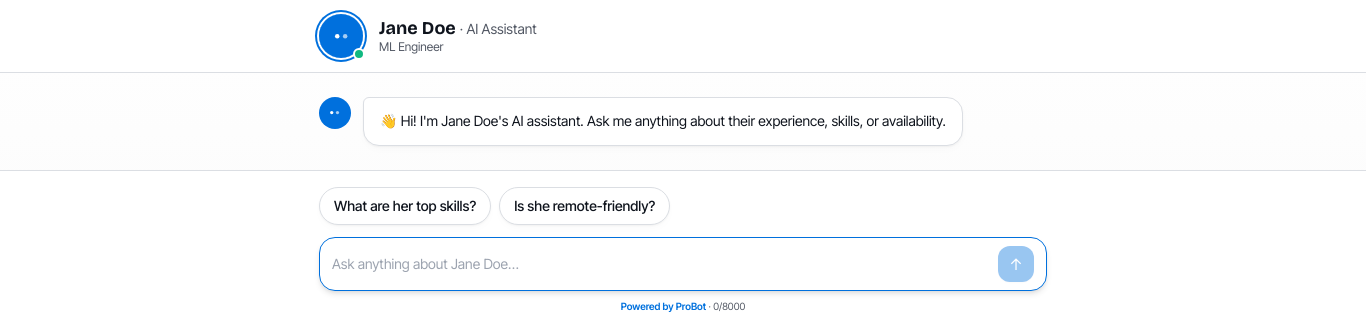
Test: ChatWindow › with no browser key, still fetches (no x-llm-api-key header) so the server can use the managed key; shows a generic error on a published bot if none is stored
Type "go" into the text box.
click(661, 264); type("go")  # box [332,246,990,282]
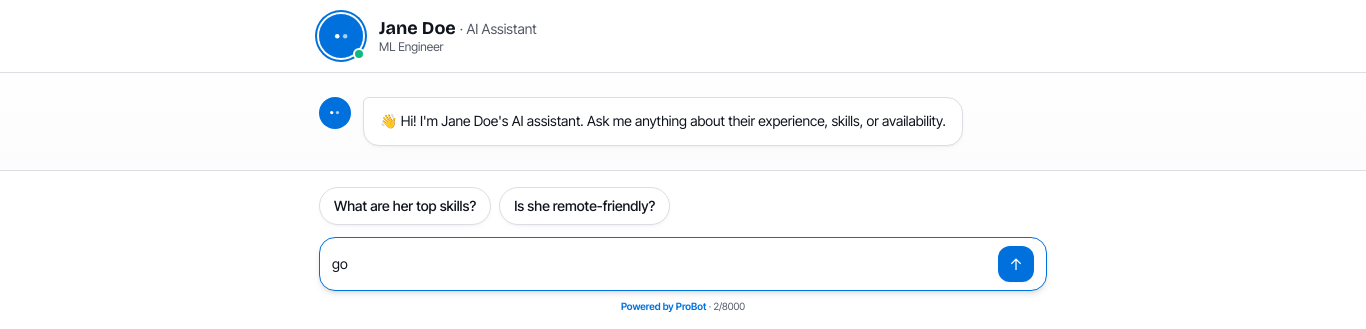
Click the button named "send message".
click(1016, 264)  # box [998,246,1034,282]
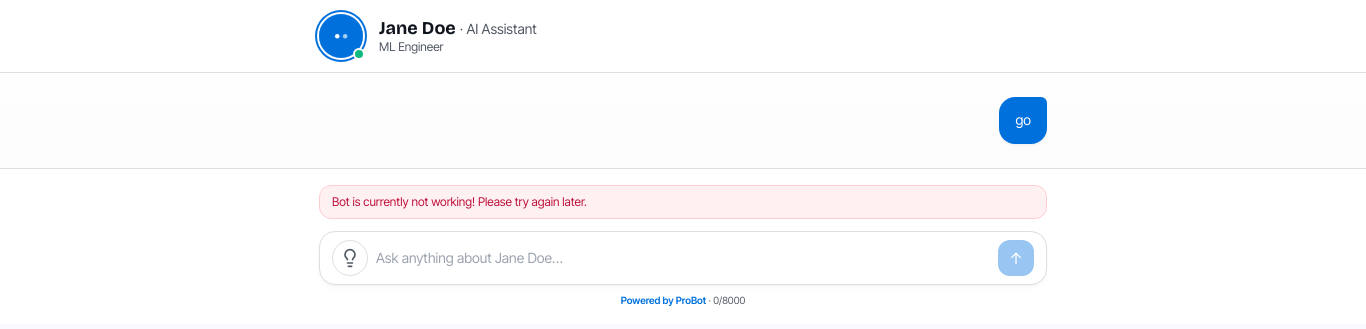
Now the message shows "currently not working", box [332,194,587,209]
